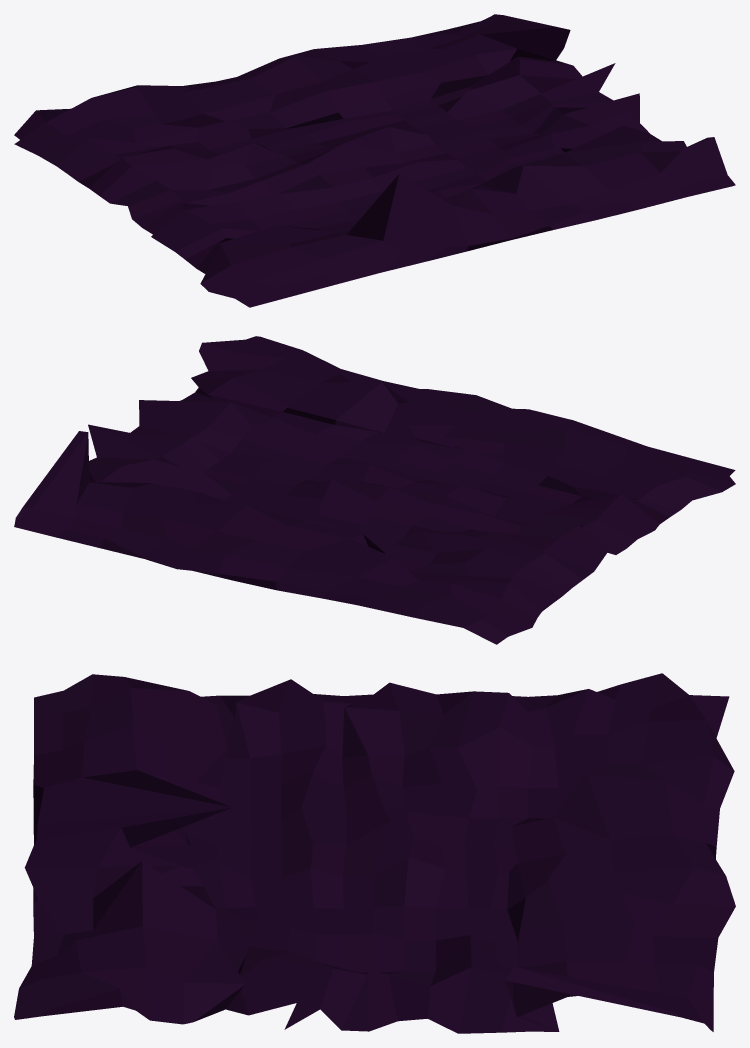
File: seafloor.fbx
3 views of the same model, one above another, from view 1: azimuth 30°, elevation 25°; view 2: azimuth 150°, elevation 25°; view 3: azimuth 270°, elevation 25° (orthographic). The views are drawn at different scales.
Visible parts, largest first — view 1: firsthalf; view 2: firsthalf; view 3: firsthalf.
Part boxes in pixels (x1,y1,x2,y2): firsthalf: [14, 14, 735, 307]; firsthalf: [14, 336, 735, 644]; firsthalf: [14, 673, 735, 1033].
Size of the model in its own units: 8146 by 653 by 6754.
